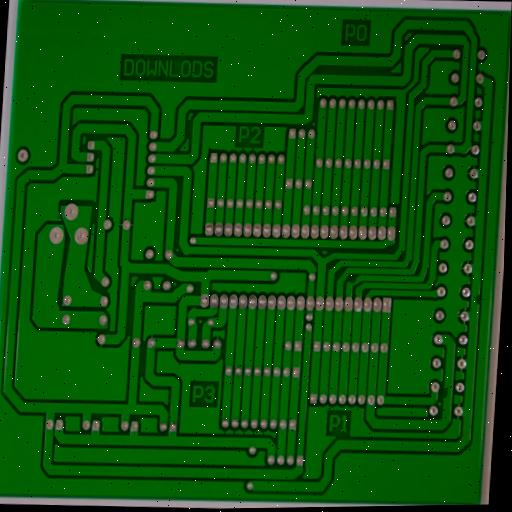mouse_bite: (440, 385, 451, 400), (347, 274, 360, 286), (473, 292, 483, 307)
